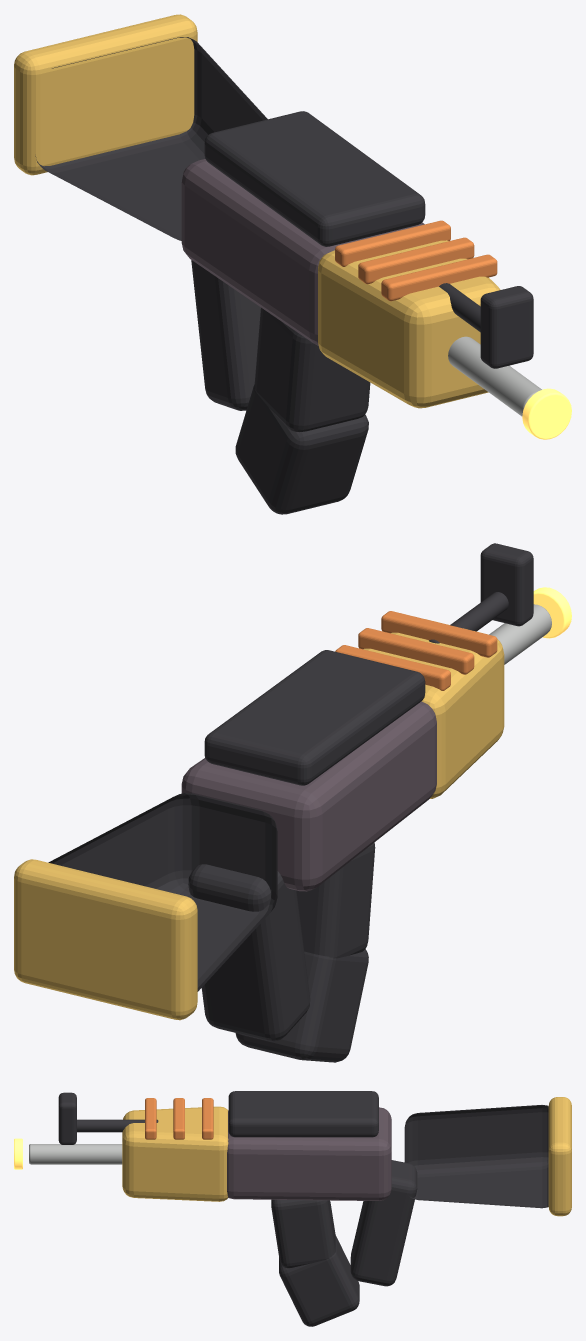
File: ak_rifle.glb
The picture shows the model from 3 angles, top to bottom: view 1: azimuth 30°, elevation 25°; view 2: azimuth 150°, elevation 25°; view 3: azimuth 270°, elevation 25°; orthographic projection. The views are drawn at different scales.
Visible parts, largest first — view 1: StockPad, TopCover, Foregrip, Receiver, Stock, CurvedMagLower, CurvedMagUpper, Grip, FrontSight, RifleBarrel, ForegripRib.002, ForegripRib.001 (+3 smaller); view 2: StockPad, Receiver, Stock, TopCover, Grip, Foregrip, CurvedMagLower, CurvedMagUpper, FrontSight, ForegripRib.002, ForegripRib.001, RifleBarrel (+3 smaller); view 3: Stock, Receiver, Foregrip, TopCover, Grip, CurvedMagLower, CurvedMagUpper, StockPad, RifleBarrel, FrontSight, GasTube, ForegripRib (+2 smaller).
Boxes of the visible parts, left/top/right/bottom form: StockPad: left=14, top=14, right=197, bottom=175; TopCover: left=204, top=111, right=425, bottom=246; Foregrip: left=318, top=240, right=500, bottom=408; Receiver: left=181, top=159, right=424, bottom=345; Stock: left=35, top=37, right=267, bottom=240; CurvedMagLower: left=235, top=384, right=368, bottom=514; CurvedMagUpper: left=254, top=307, right=370, bottom=432; Grip: left=191, top=260, right=260, bottom=410; FrontSight: left=480, top=286, right=533, bottom=368; RifleBarrel: left=448, top=336, right=541, bottom=416; ForegripRib.002: left=381, top=254, right=497, bottom=301; ForegripRib.001: left=358, top=237, right=474, bottom=284; StockPad: left=14, top=859, right=197, bottom=1020; Receiver: left=181, top=701, right=436, bottom=891; Stock: left=48, top=793, right=277, bottom=991; TopCover: left=204, top=650, right=425, bottom=785; Grip: left=188, top=864, right=310, bottom=1041; Foregrip: left=363, top=619, right=504, bottom=798; CurvedMagLower: left=235, top=949, right=368, bottom=1062; CurvedMagUpper: left=296, top=842, right=375, bottom=958; FrontSight: left=480, top=543, right=533, bottom=626; ForegripRib.002: left=381, top=611, right=497, bottom=657; ForegripRib.001: left=358, top=628, right=474, bottom=674; RifleBarrel: left=489, top=604, right=551, bottom=664; Stock: left=404, top=1105, right=548, bottom=1208; Receiver: left=227, top=1107, right=391, bottom=1200; Foregrip: left=122, top=1106, right=228, bottom=1201; TopCover: left=228, top=1091, right=378, bottom=1137; Grip: left=350, top=1160, right=417, bottom=1286; CurvedMagLower: left=279, top=1235, right=359, bottom=1326; CurvedMagUpper: left=271, top=1199, right=335, bottom=1268; StockPad: left=548, top=1097, right=571, bottom=1216; RifleBarrel: left=29, top=1144, right=122, bottom=1164; FrontSight: left=58, top=1092, right=76, bottom=1144; GasTube: left=77, top=1119, right=158, bottom=1132; ForegripRib: left=202, top=1098, right=213, bottom=1139.
Bounding box in the file's own units: 0.48 × 0.9382 × 2.15.
